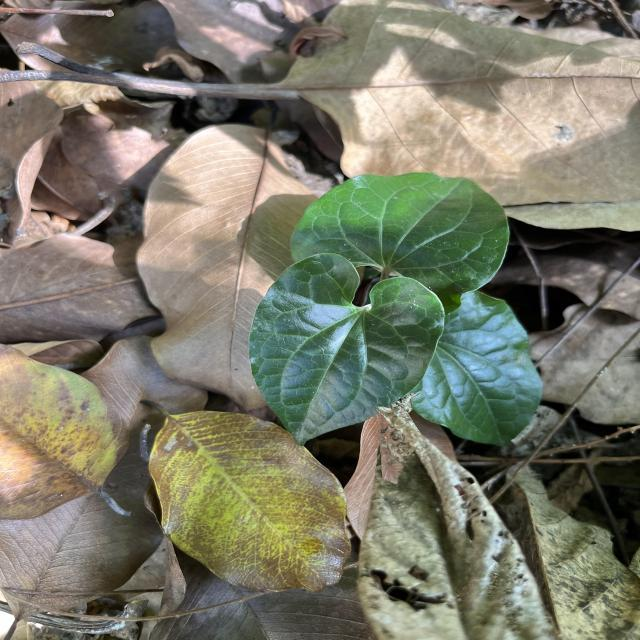Piper longum: (248, 250, 448, 450), (288, 169, 512, 301)
